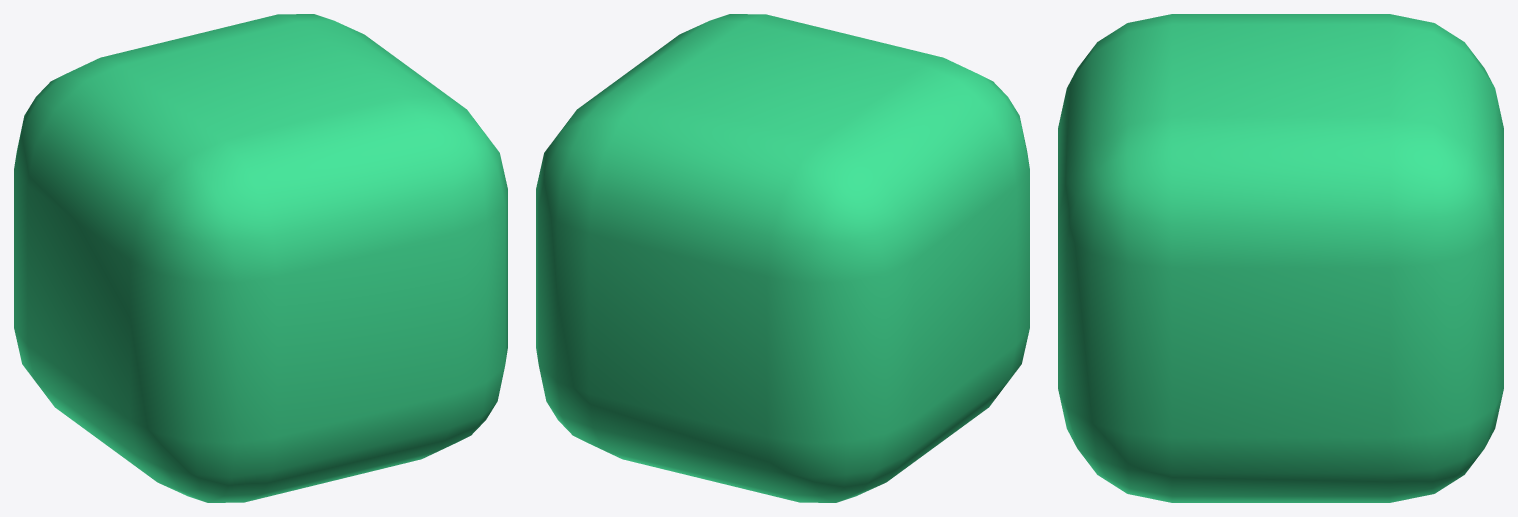
Rendered from body.glb.
3 views of the same model, side by side, from view 1: azimuth 30°, elevation 25°; view 2: azimuth 150°, elevation 25°; view 3: azimuth 270°, elevation 25° (orthographic). The views are drawn at different scales.
Visible parts, largest first — view 1: Body; view 2: Body; view 3: Body.
Boxes of the visible parts, bbox=[...] form: Body: bbox=[14, 14, 507, 502]; Body: bbox=[536, 14, 1029, 502]; Body: bbox=[1058, 14, 1503, 502].
Size of the model in its own units: 0.86 by 0.8 by 0.86.
